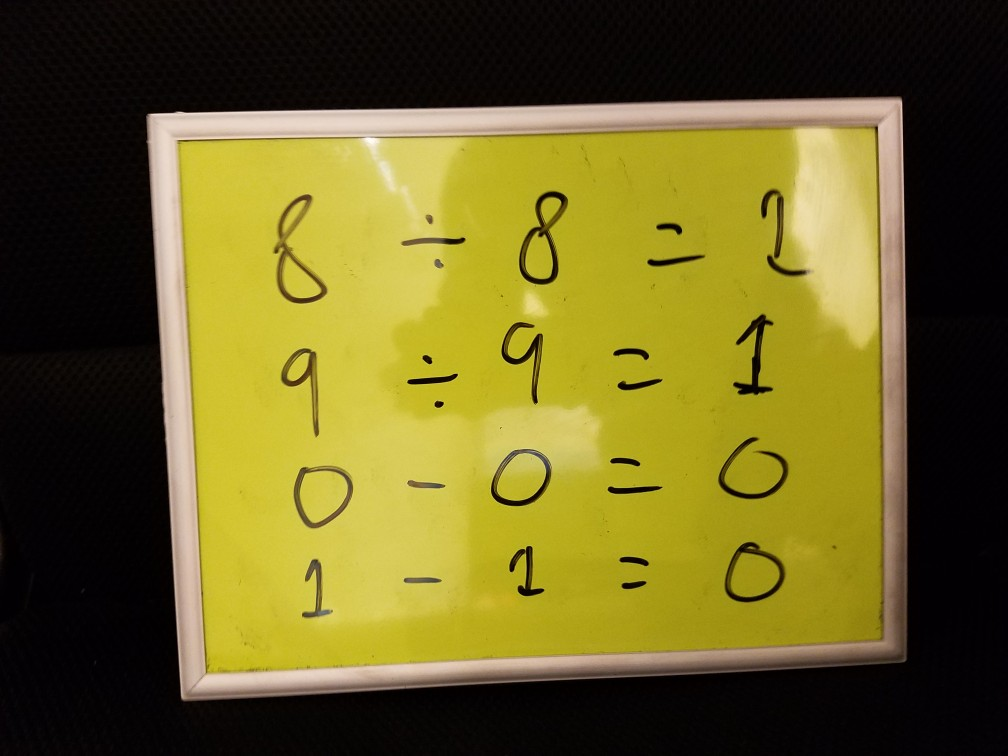-: (403, 462, 453, 503), (397, 560, 446, 597)
0: (710, 430, 799, 507), (718, 532, 795, 611), (485, 440, 557, 513), (287, 459, 357, 532)
1: (750, 181, 816, 288), (723, 306, 785, 407), (499, 541, 550, 609), (293, 554, 339, 627)
8: (258, 181, 336, 312), (507, 179, 576, 293)
9: (273, 342, 333, 435), (494, 317, 551, 412)
=: (639, 216, 712, 276), (598, 445, 669, 506), (607, 338, 666, 398), (611, 541, 662, 599)
div: (391, 201, 471, 274), (392, 345, 469, 417)
